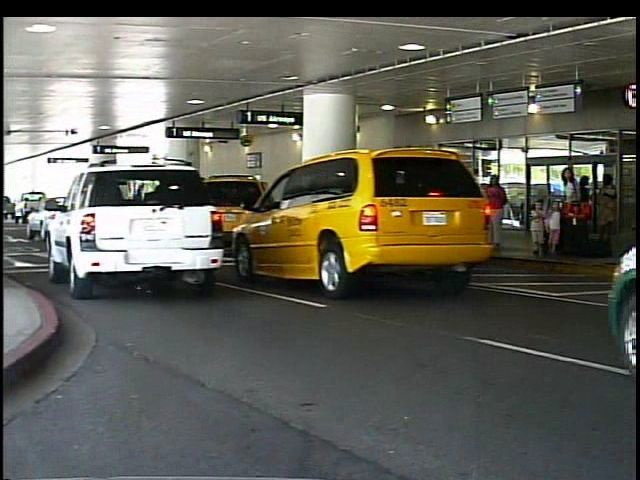person: (481, 172, 511, 258), (558, 166, 585, 257), (599, 174, 622, 243), (577, 174, 597, 244), (532, 200, 552, 255), (548, 201, 565, 254)
